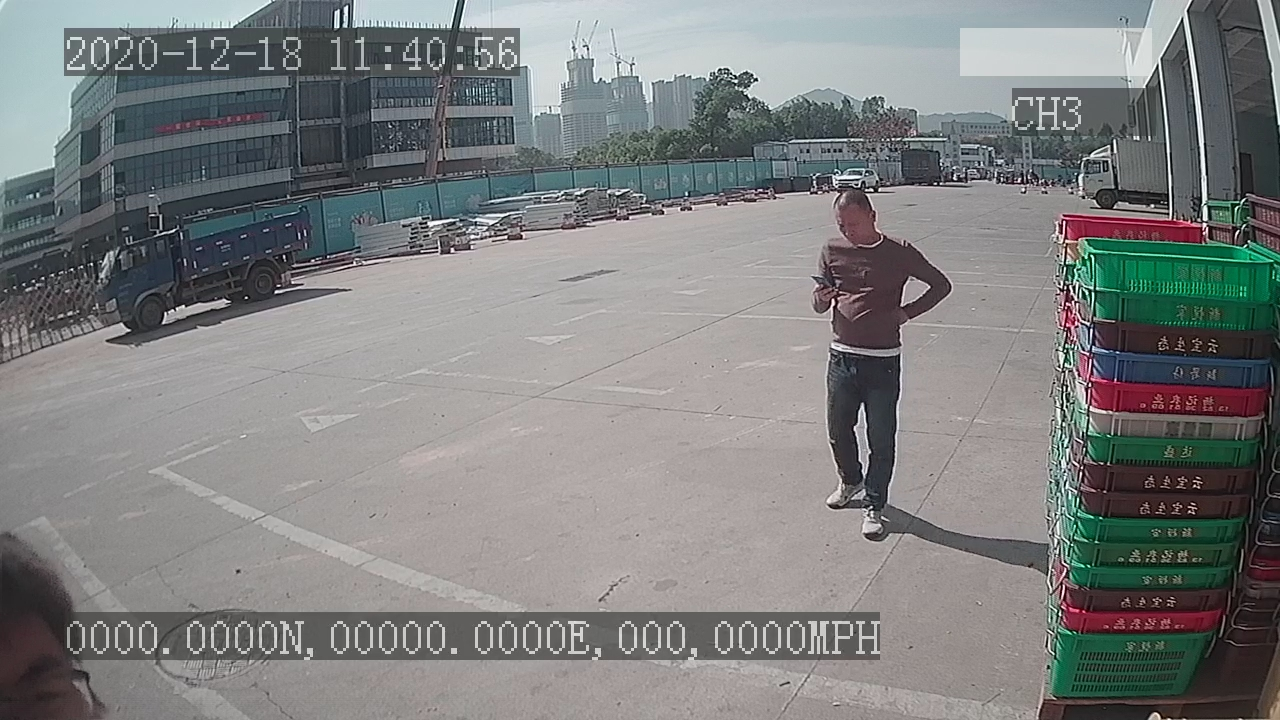person: (809, 191, 958, 535)
